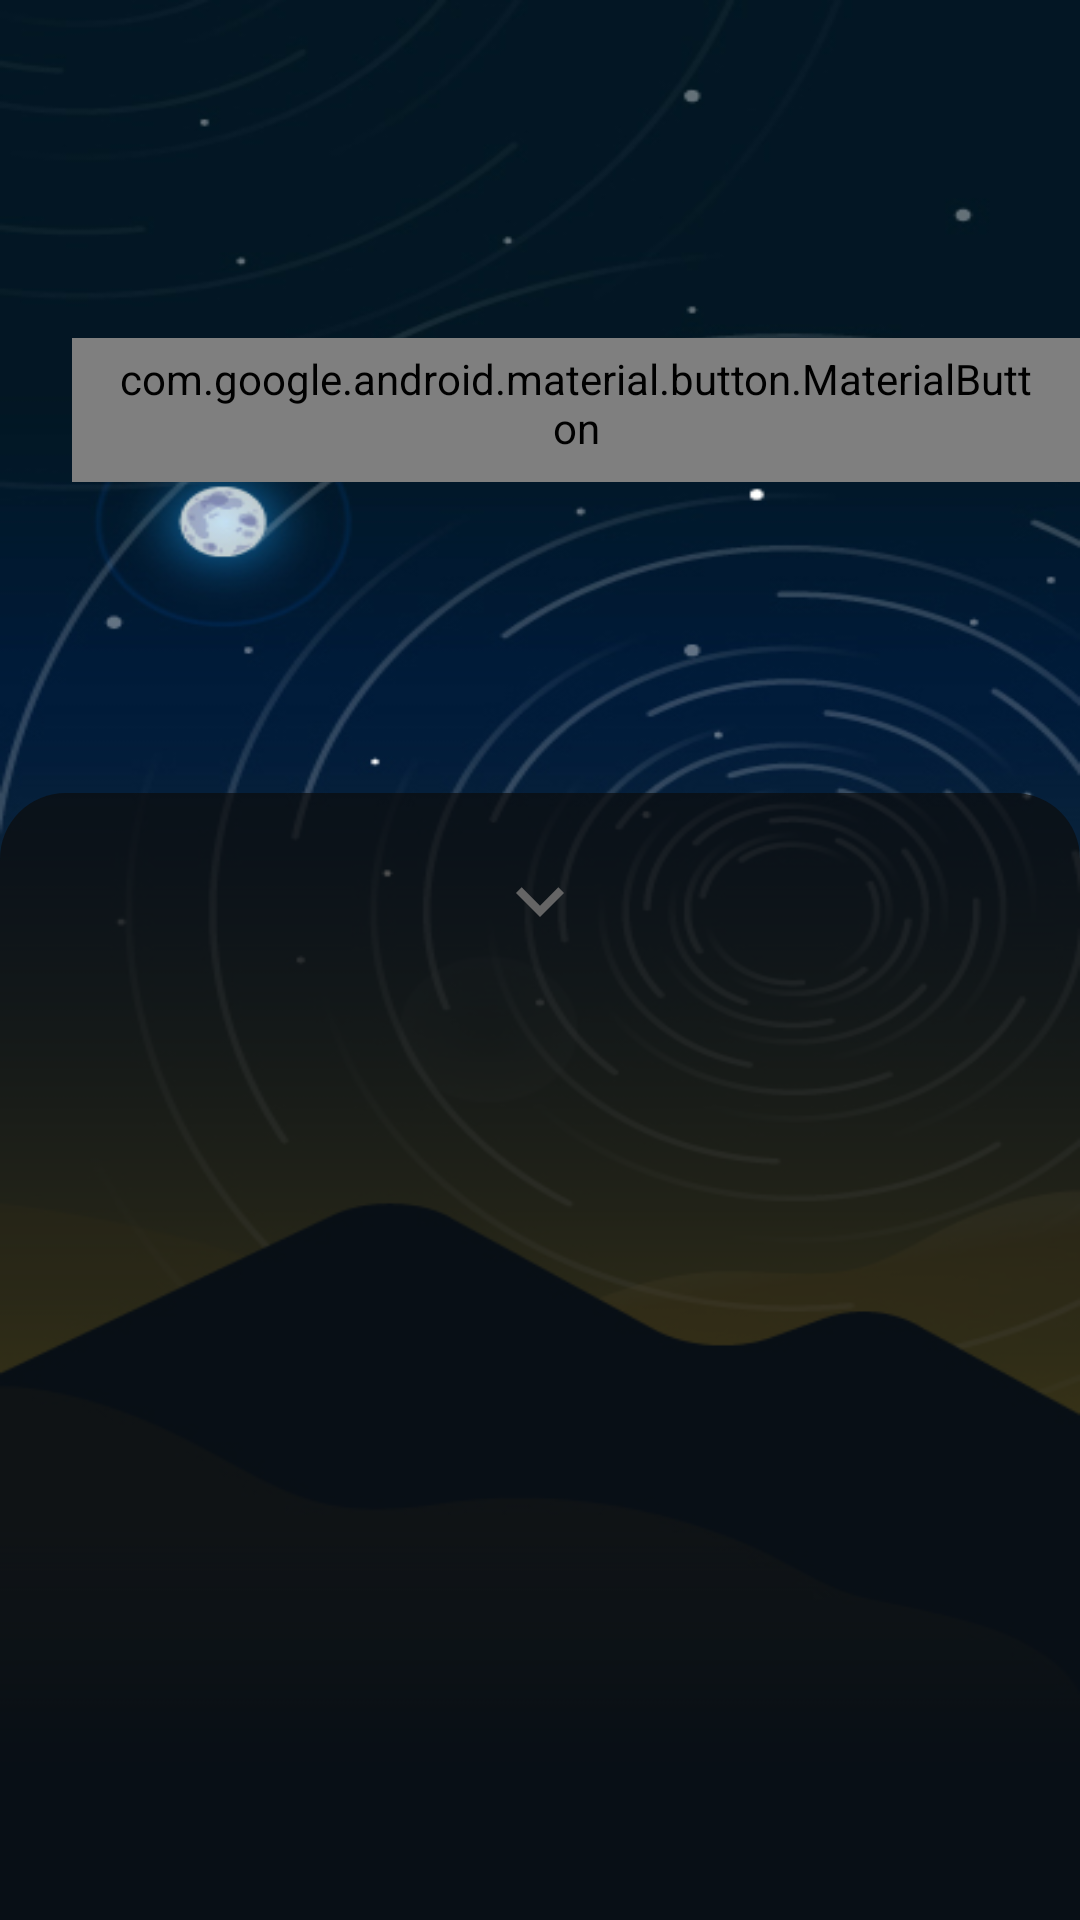

Named icons in this screenshot (1080 × 1920) and their centers, point (x, y):
keyboard arrow down: point (540, 902)
